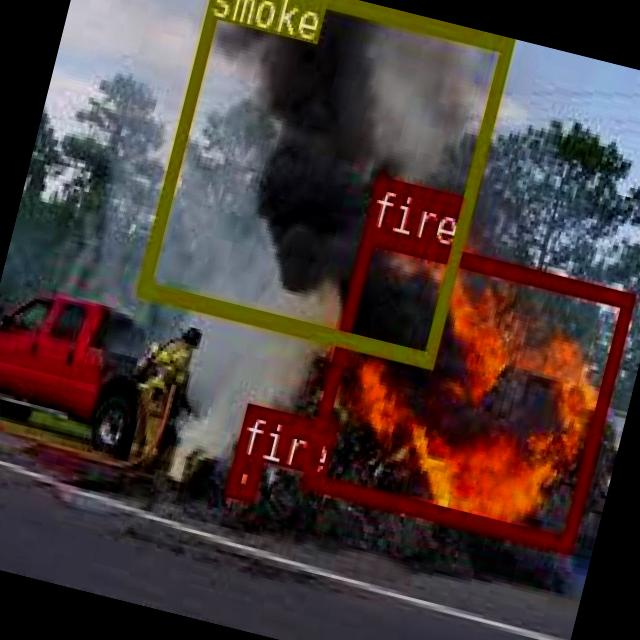fire: (300, 224, 632, 550), (225, 453, 261, 497)
smoke: (134, 0, 511, 366)
